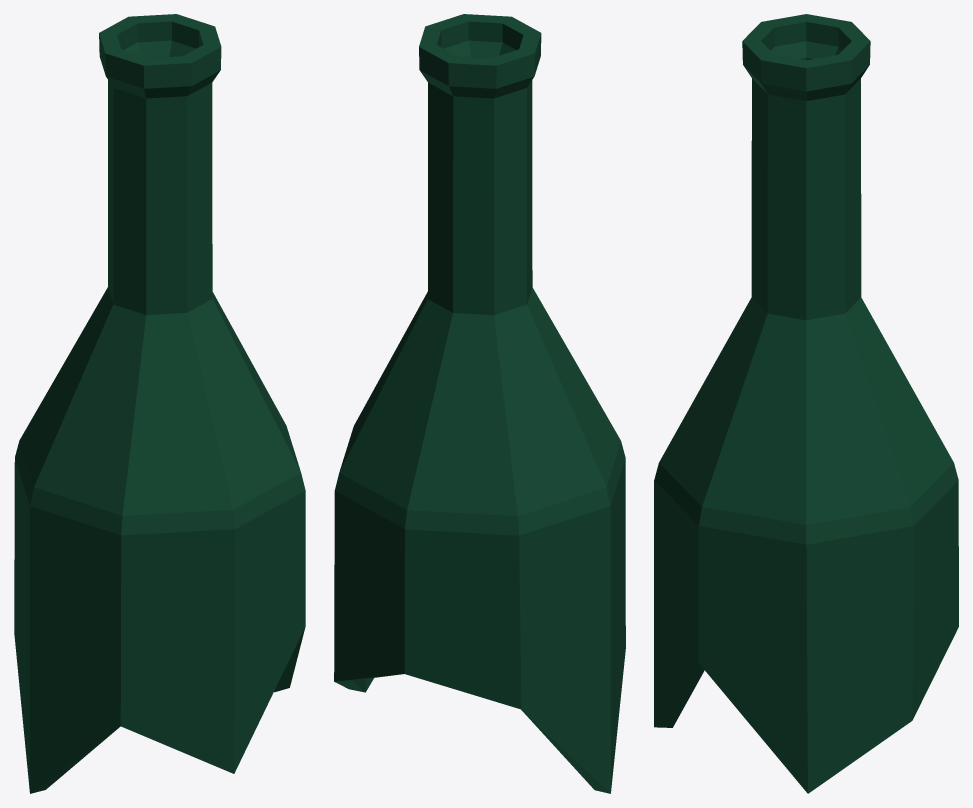
The model's file is bottle.fbx.
The picture shows the model from 3 angles, left to right: view 1: azimuth 30°, elevation 25°; view 2: azimuth 150°, elevation 25°; view 3: azimuth 270°, elevation 25°; orthographic projection.
Visible parts, largest first — view 1: bottle; view 2: bottle; view 3: bottle.
Part boxes in pixels (x1,y1,x2,y2): bottle: [14, 14, 305, 793]; bottle: [334, 14, 625, 793]; bottle: [654, 14, 958, 793].
Size of the model in its own units: 29.61 by 78.32 by 29.61.
